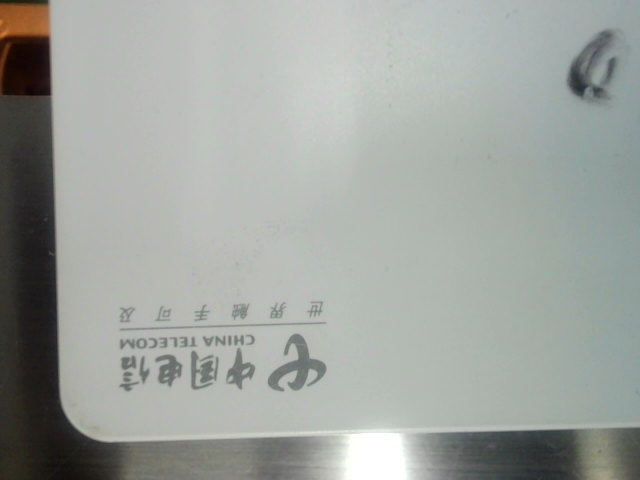AB_ChinaTelecom: (101, 287, 335, 393)
